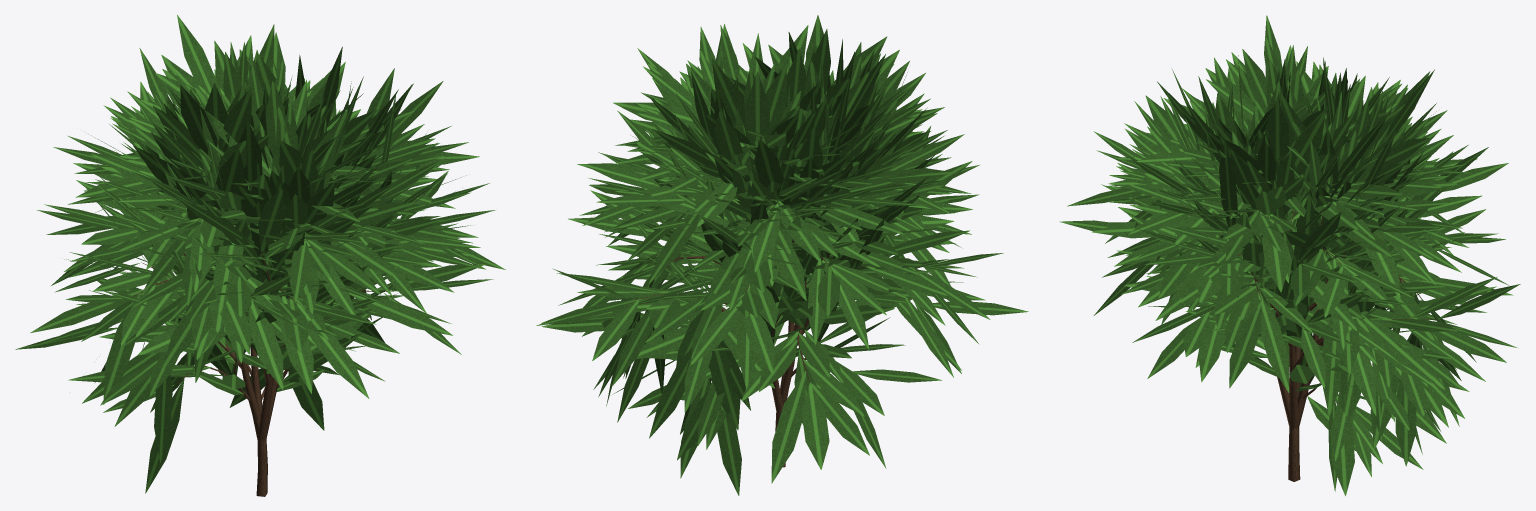
Rendered from callistemon.glb.
3 renders of one model, left to right at view 1: azimuth 30°, elevation 25°; view 2: azimuth 150°, elevation 25°; view 3: azimuth 270°, elevation 25°, orthographic. The views are drawn at different scales.
Parts seen in each view (by area): view 1: leaves, tree; view 2: leaves, tree; view 3: leaves, tree.
Boxes of the visible parts, left/top/right/bottom form: leaves: left=15, top=15, right=505, bottom=493; tree: left=132, top=218, right=386, bottom=496; leaves: left=536, top=15, right=1028, bottom=495; tree: left=632, top=201, right=918, bottom=467; leaves: left=1059, top=15, right=1520, bottom=495; tree: left=1202, top=179, right=1435, bottom=481.
Size of the model in its own units: 1.03 by 1 by 0.9967.
2 materials, 2 textured.
